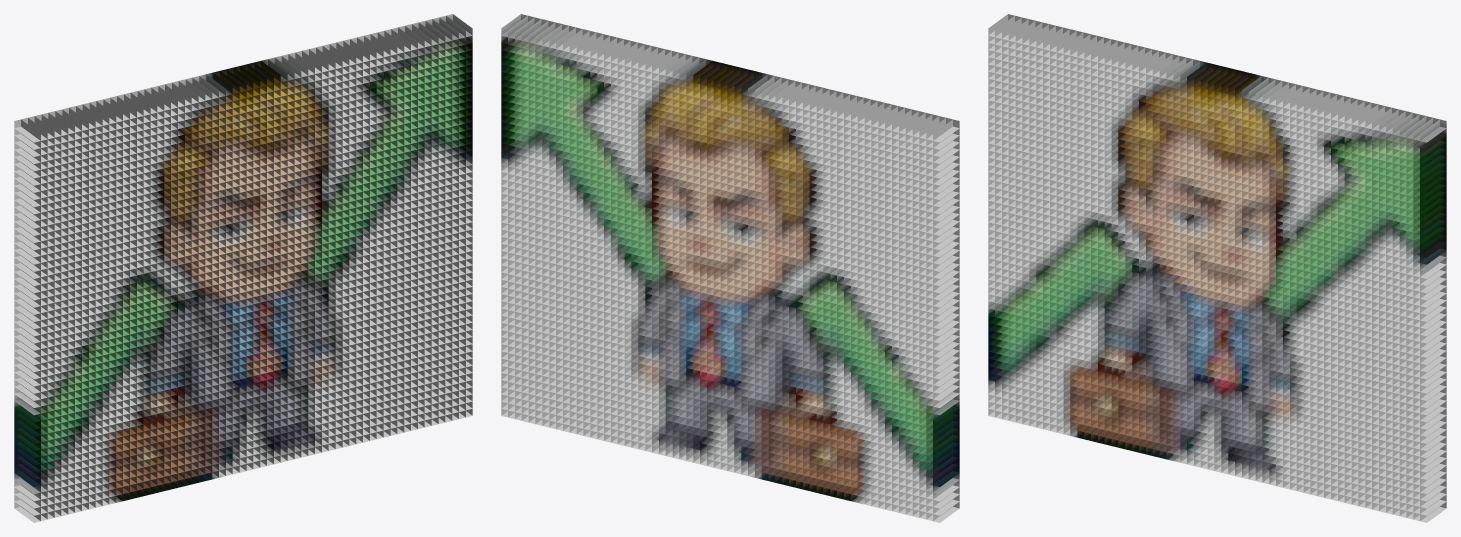
File: linkedin.glb
3 renders of one model, left to right at view 1: azimuth 30°, elevation 25°; view 2: azimuth 150°, elevation 25°; view 3: azimuth 330°, elevation 25°, orthographic.
Parts seen in each view (by area): view 1: world; view 2: world; view 3: world.
Boxes of the visible parts, bbox=[...] form: world: bbox=[14, 14, 472, 522]; world: bbox=[501, 14, 959, 522]; world: bbox=[988, 14, 1446, 522].
Bounding box in the file's own units: 0.64 × 0.54 × 0.05.
